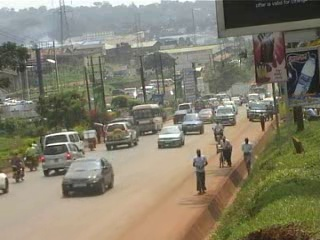Car: (58, 155, 114, 199), (40, 140, 90, 177), (102, 121, 140, 152), (156, 122, 185, 148), (180, 111, 205, 135), (196, 105, 218, 122), (189, 96, 209, 112), (172, 107, 190, 124), (0, 167, 10, 196), (221, 100, 237, 115), (231, 96, 240, 106)
Motorcycle: (5, 153, 28, 184), (22, 145, 39, 171), (210, 121, 228, 144), (83, 129, 97, 150)
